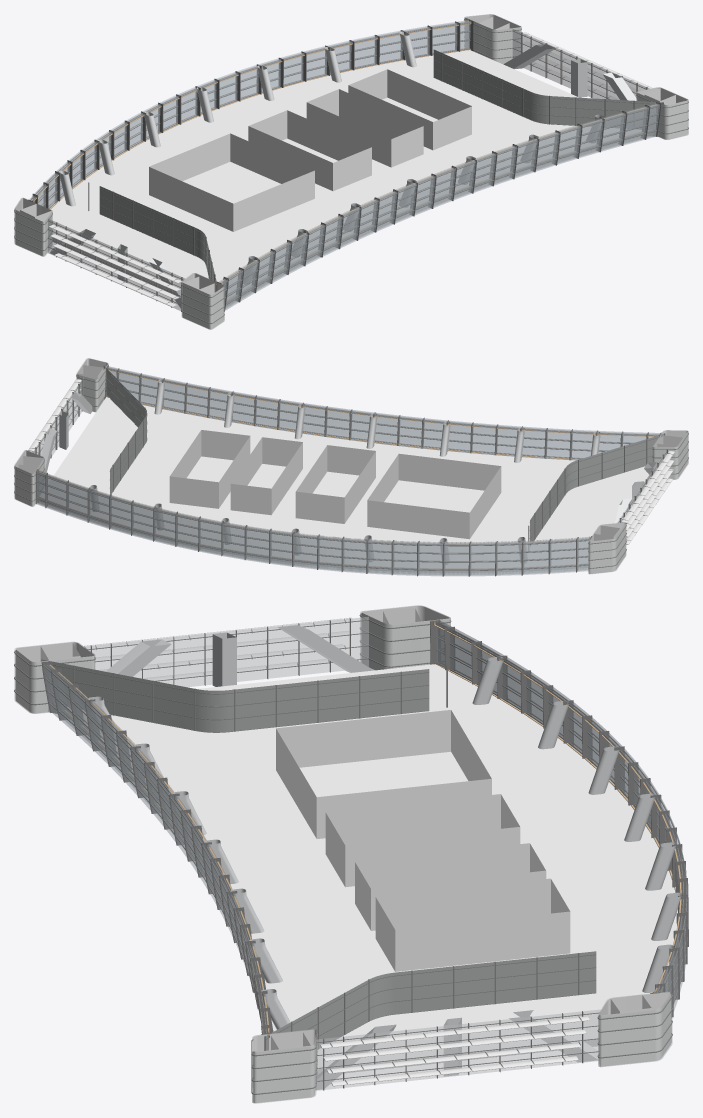
3 renders of one model, top to bottom at view 1: azimuth 30°, elevation 25°; view 2: azimuth 150°, elevation 25°; view 3: azimuth 270°, elevation 25°, orthographic. The views are drawn at different scales.
Parts seen in each view (by area): view 1: floor.053; view 2: floor.053; view 3: floor.053.
Boxes of the visible parts, <box> form: floor.053: <box>14,14,688,329</box>; floor.053: <box>14,358,688,576</box>; floor.053: <box>14,605,688,1103</box>.
Bounding box in the file's own units: 82.03 × 4.39 × 52.29.
14 materials, 1 textured.
